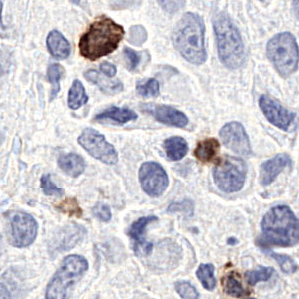Lymphocyte: (78, 17, 126, 58)
